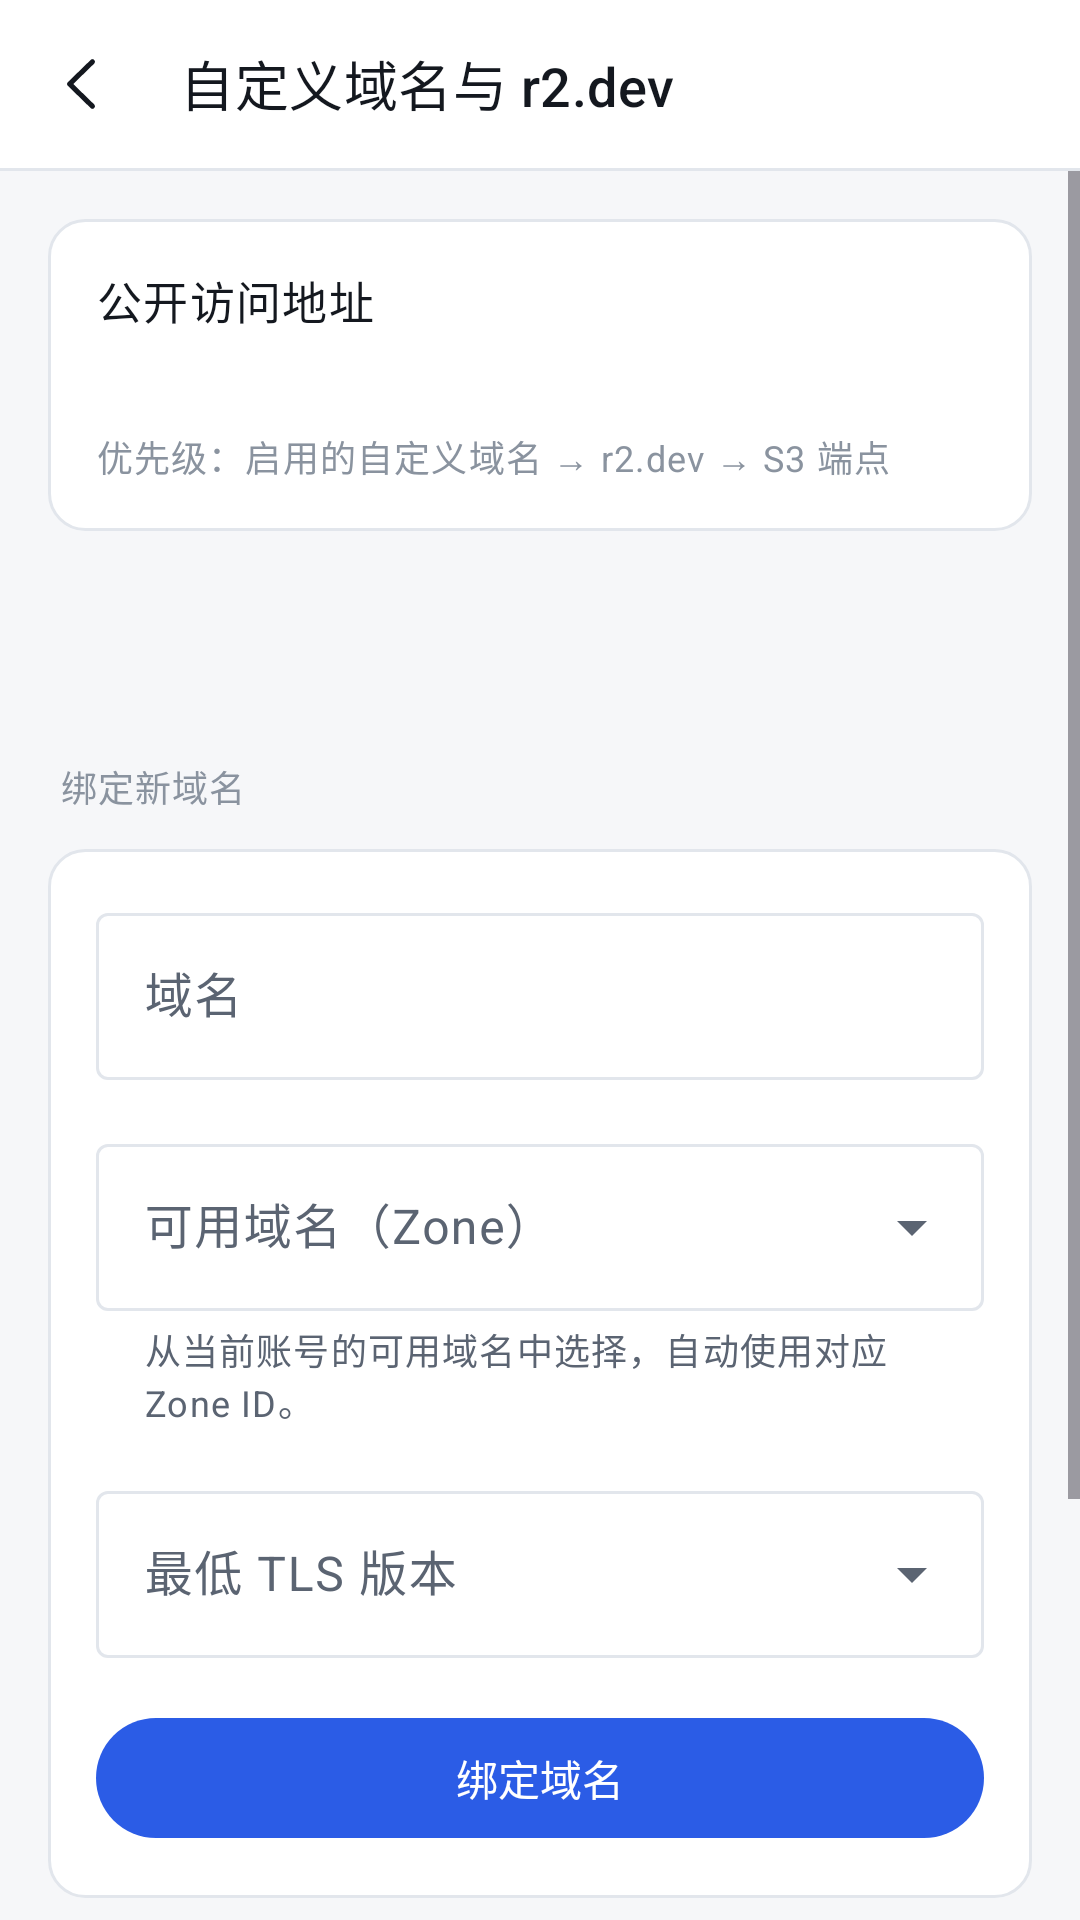

Named icons in this screenshot (1080w x 1920h) and their centers, (x,y):
返回: (81,84)
